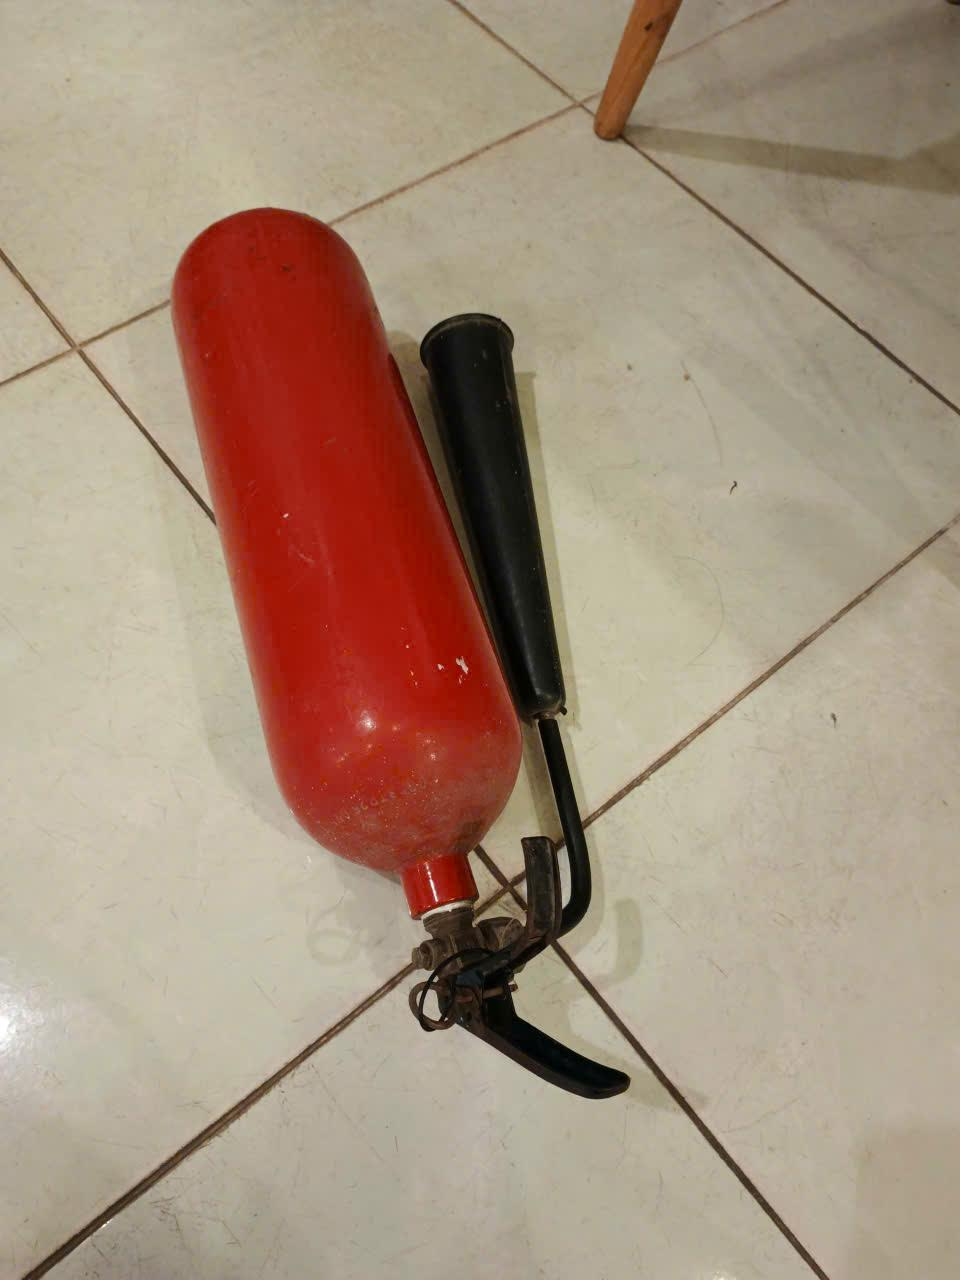Con lai: (170, 206, 628, 1099)
